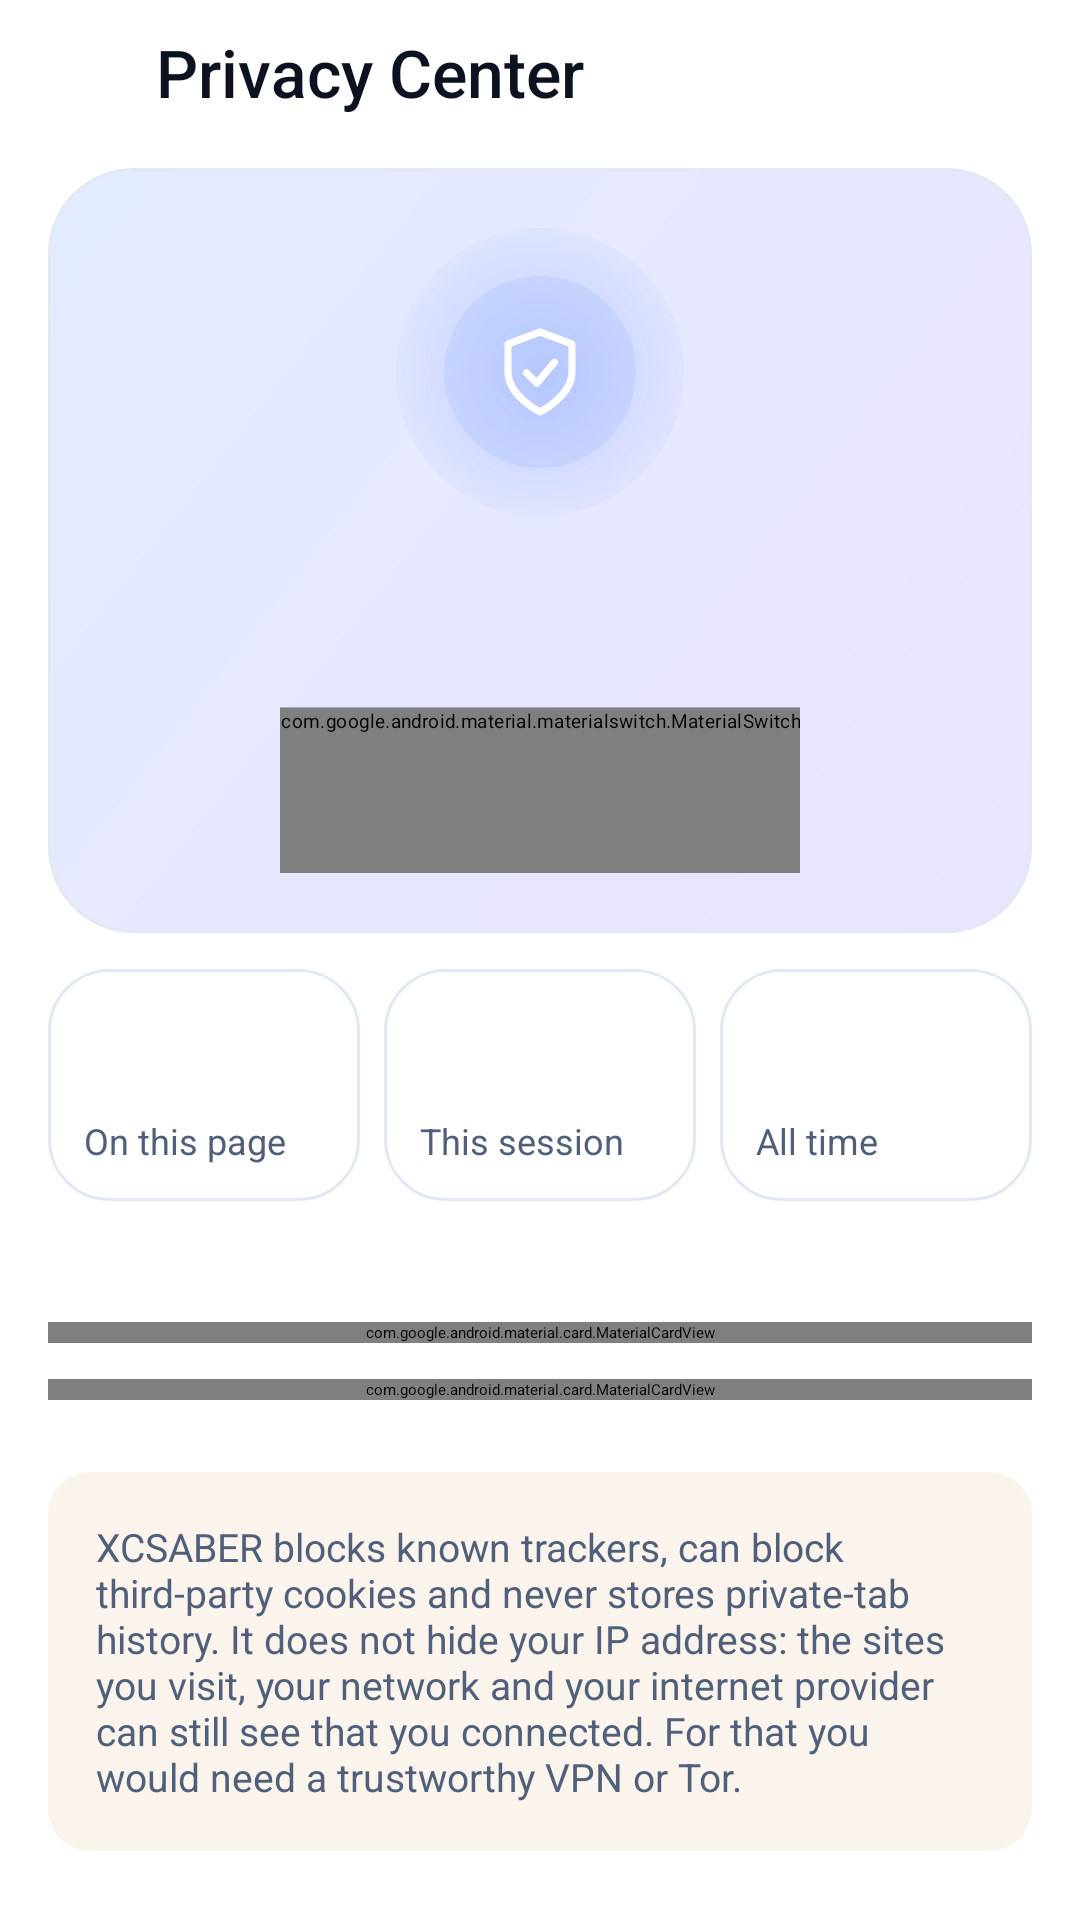

Screen size 1080*1920. Icon name, then its box in pixels as (x1, y1, x2, y2):
shield check: (492, 324, 588, 420)
